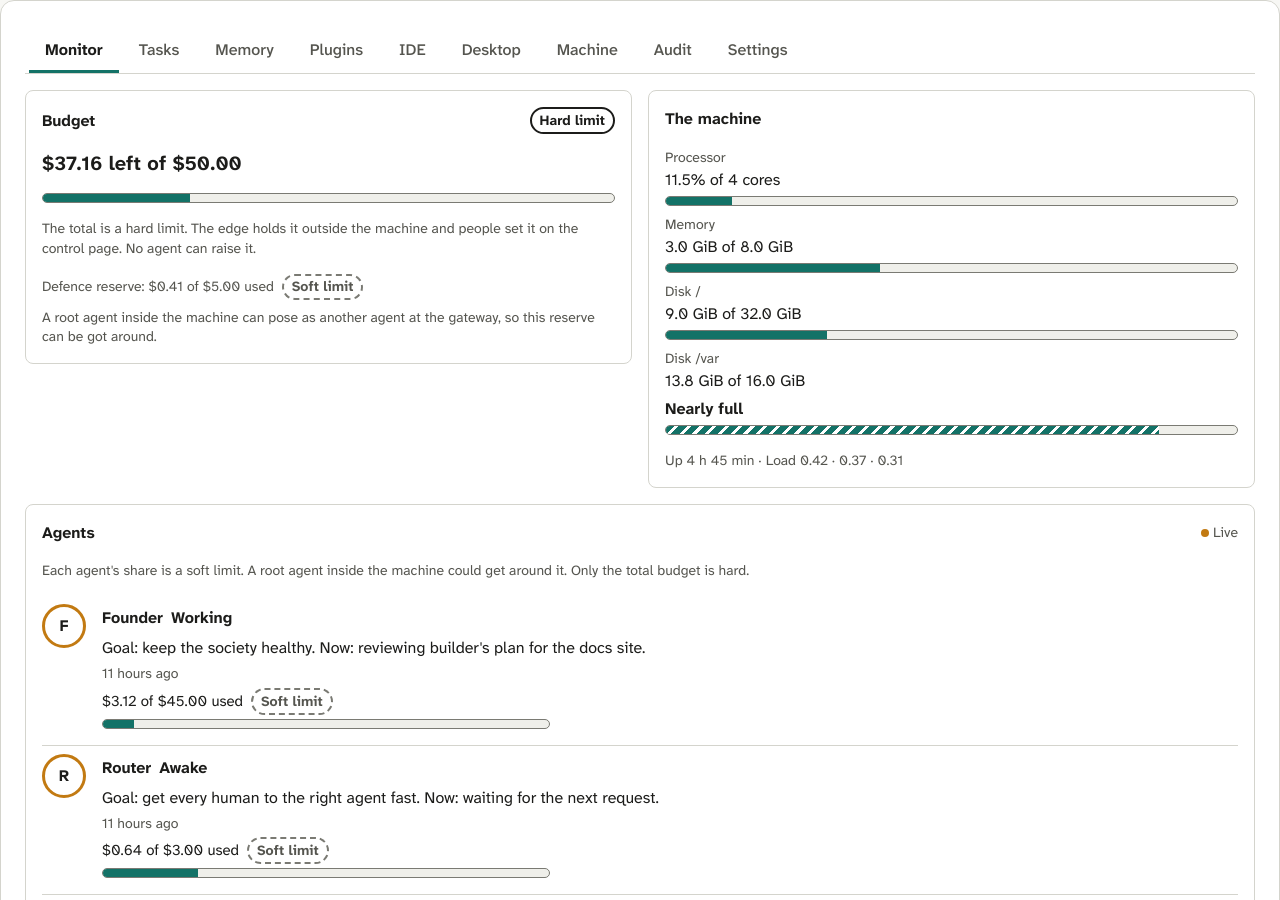
Scenario: Panels › moves between tabs with the arrow, Home and End keys
Click the tab "Monitor" at (74, 51), box [29,29,119,73]
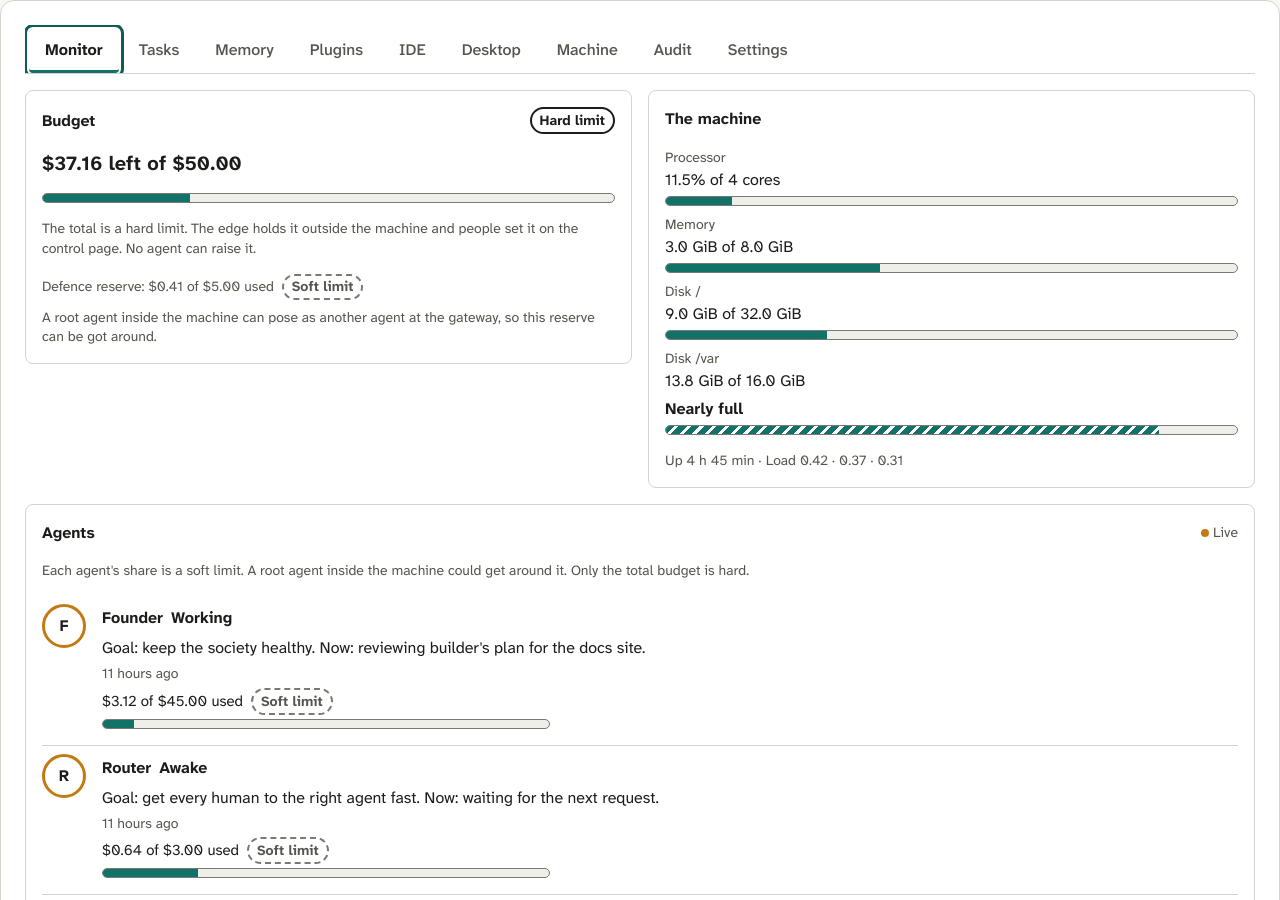
Press Arrowleft
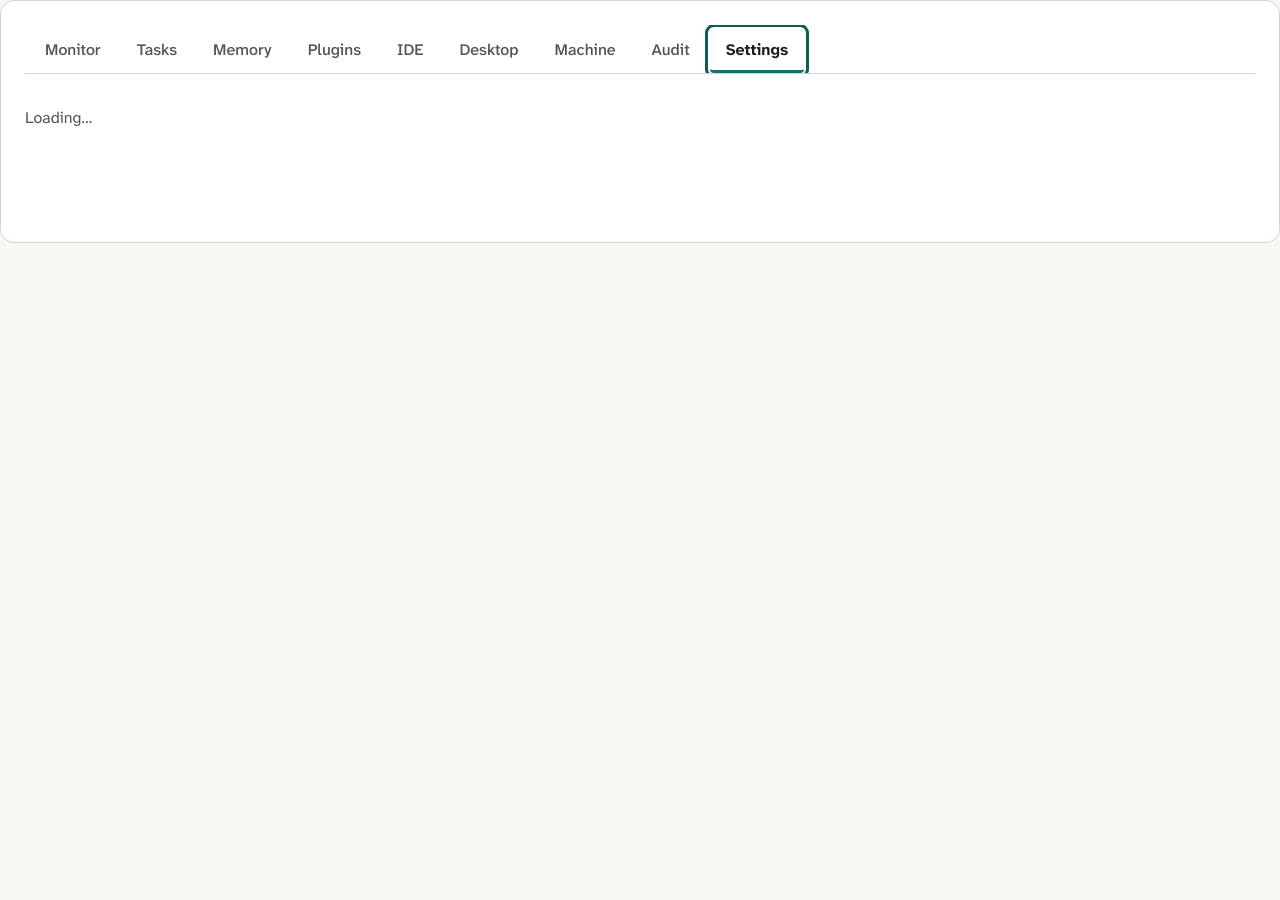
Press Arrowright
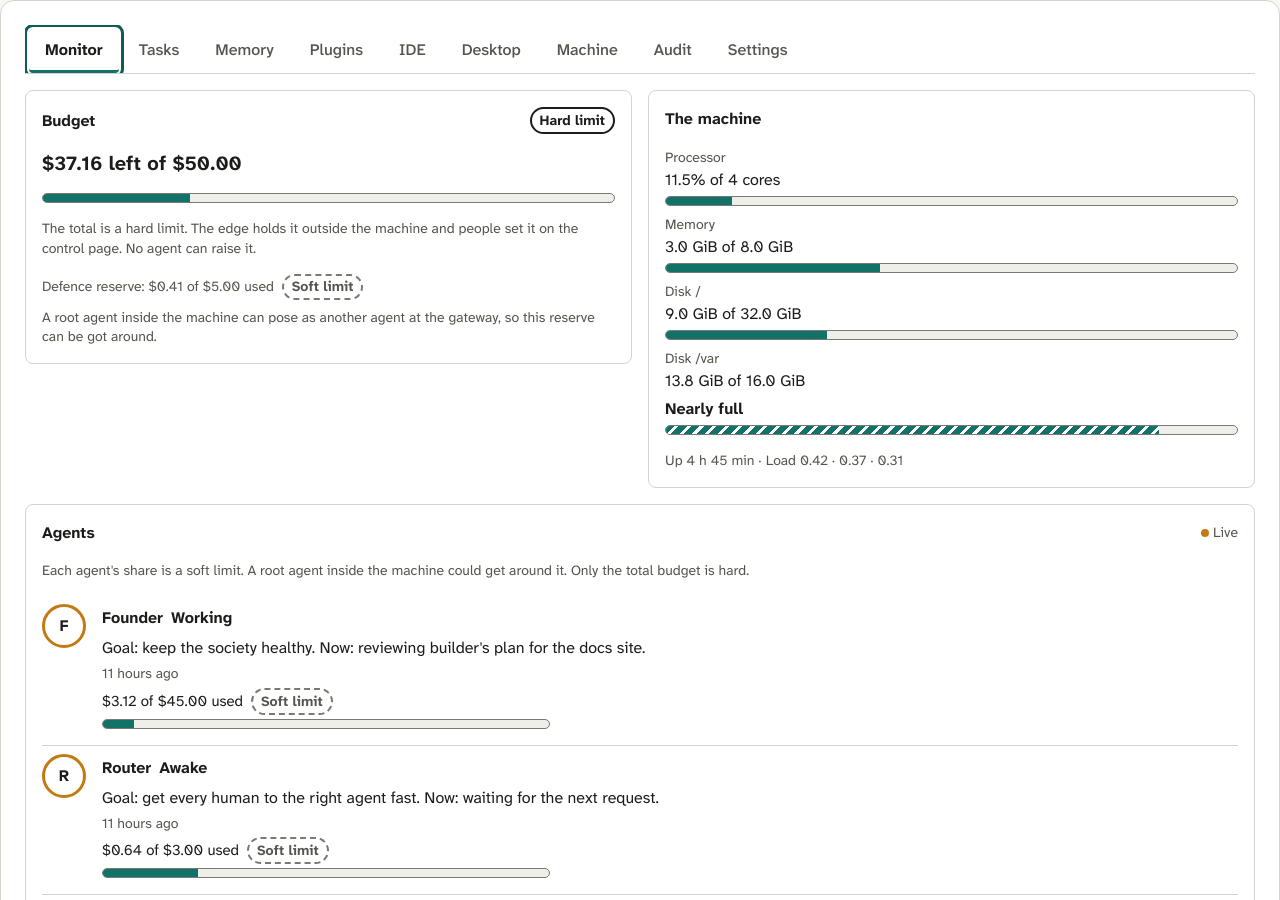
Press End
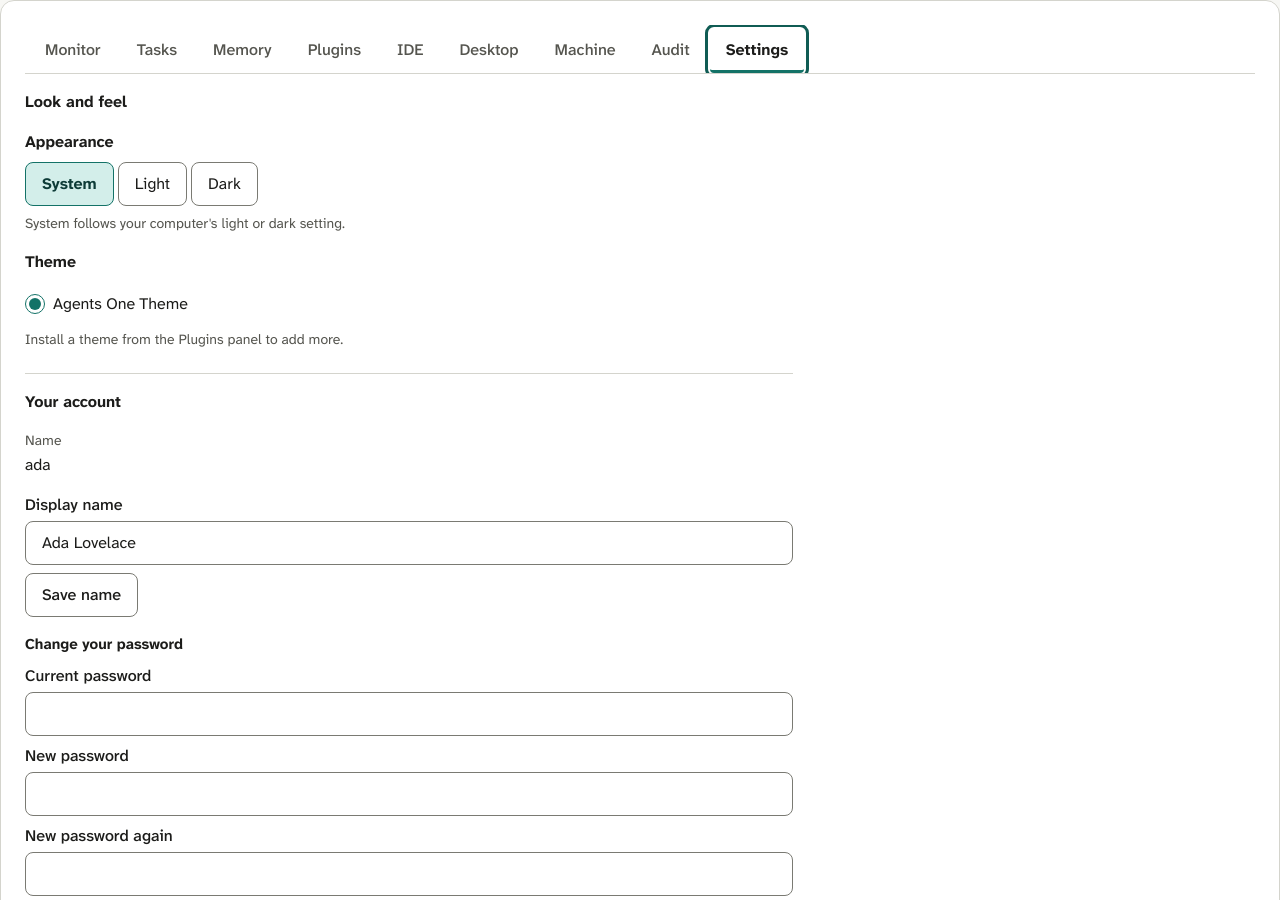
Press Home
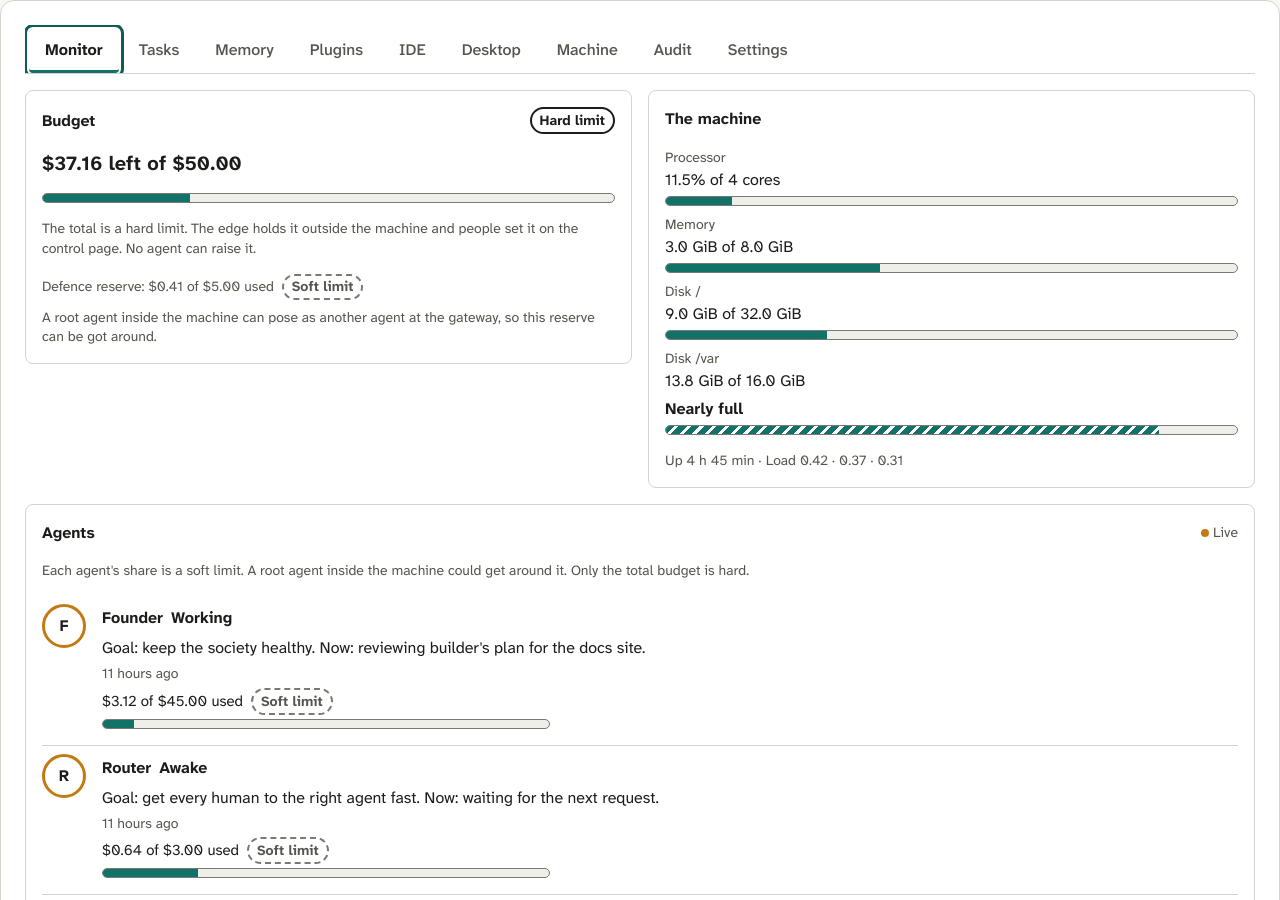
Press Arrowright
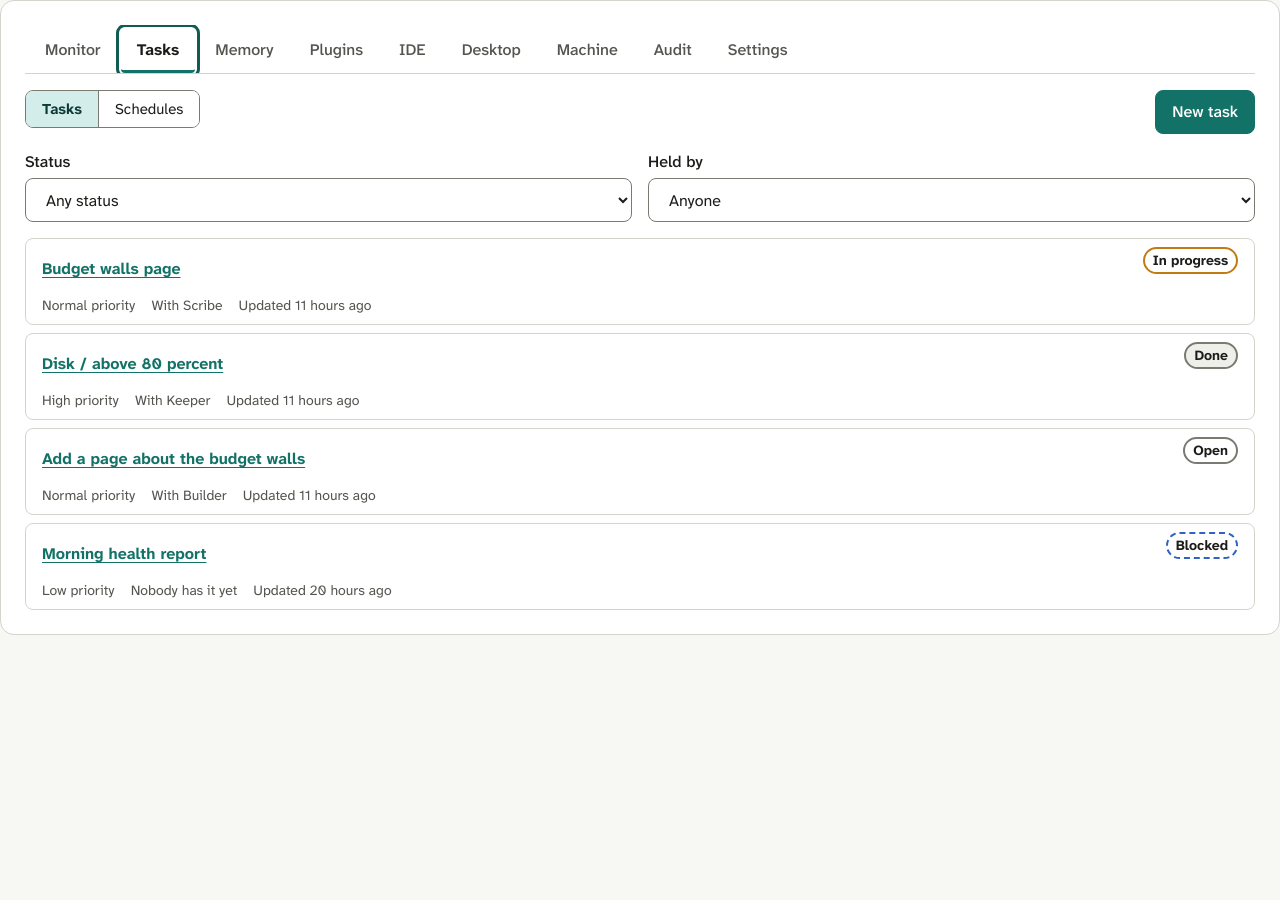
expect the list named "Tasks, newest first" is shown: met, box [25,238,1255,610]
